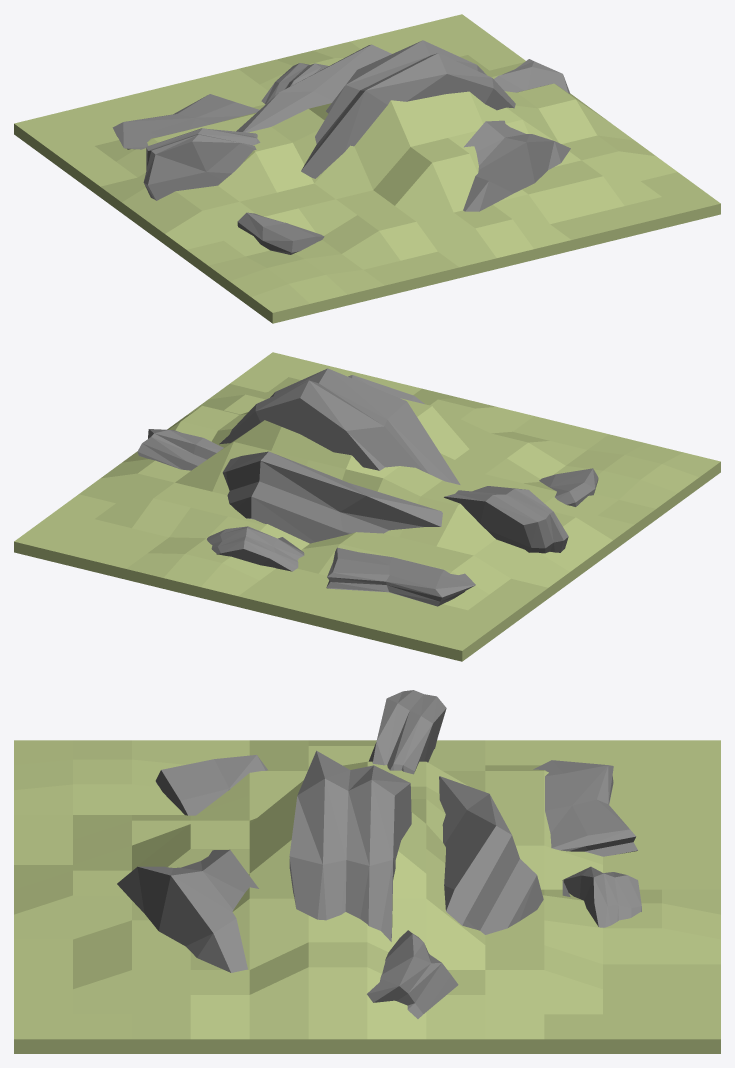
Rendered from Rock II.fbx.
The picture shows the model from 3 angles, top to bottom: view 1: azimuth 30°, elevation 25°; view 2: azimuth 150°, elevation 25°; view 3: azimuth 270°, elevation 25°; orthographic projection. The views are drawn at different scales.
Visible parts, largest first — view 1: Rock II; view 2: Rock II; view 3: Rock II.
Part boxes in pixels (x1,y1,x2,y2): Rock II: [14, 14, 720, 323]; Rock II: [14, 352, 720, 661]; Rock II: [14, 690, 720, 1053].
Size of the model in its own units: 1600 by 407 by 1600.
